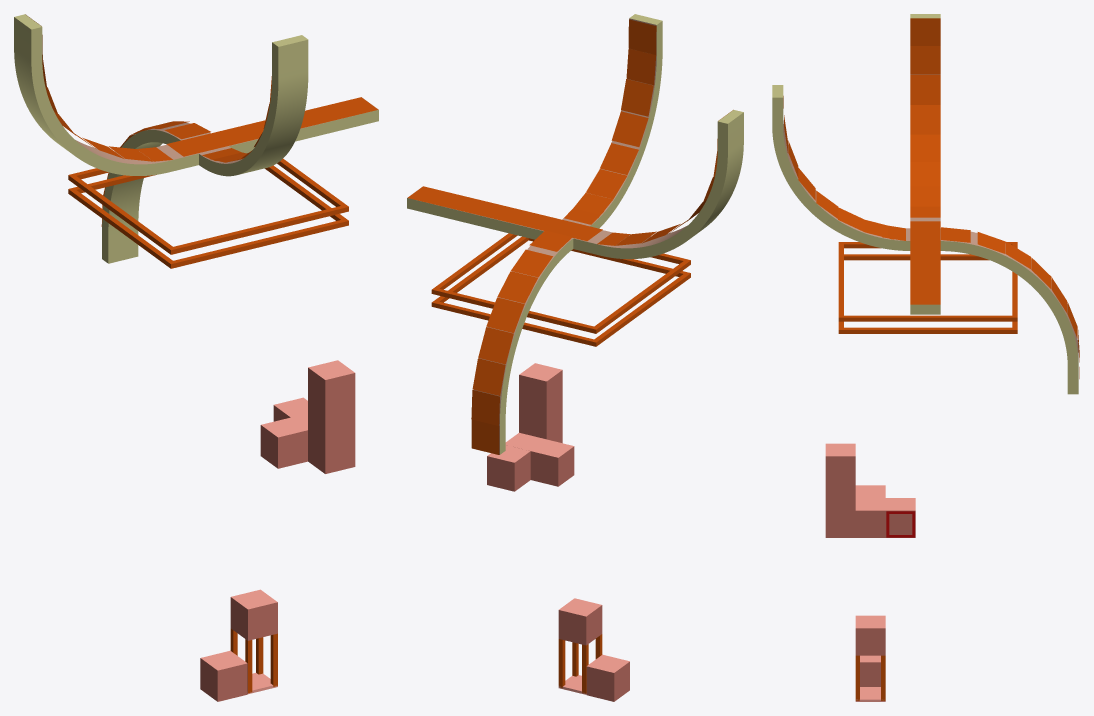
The model's file is Lrem Ipsum Jeblko.fbx.
3 views of the same model, side by side, from view 1: azimuth 30°, elevation 25°; view 2: azimuth 150°, elevation 25°; view 3: azimuth 270°, elevation 25° (orthographic). The views are drawn at different scales.
Parts seen in each view (by area): view 1: Cube, Rotate, Up_L, up_F, Výtah, down, Cube_3, Cube_2, Cube_1; view 2: Rotate, Cube, up_F, Výtah, Up_L, Cube_2, down, Cube_3, Cube_1, Plane_3, Plane_4, Plane_4_2 (+12 smaller); view 3: Cube, Rotate, Up_L, down, Výtah, Cube_1, Plane_10, Plane_11, Plane_12, Plane_9, Plane_13, Plane_8 (+3 smaller).
Boxes of the visible parts, box(x1,y1,x2,y2) form: Cube: box(260, 360, 355, 473); Rotate: box(68, 153, 348, 268); Up_L: box(199, 35, 308, 176); up_F: box(14, 14, 169, 175); Výtah: box(230, 589, 277, 693); down: box(102, 123, 210, 263); Cube_3: box(200, 650, 247, 701); Cube_2: box(156, 98, 378, 172); Cube_1: box(273, 397, 307, 421); Rotate: box(431, 233, 690, 346); Cube: box(505, 363, 574, 486); up_F: box(600, 110, 743, 259); Výtah: box(558, 598, 602, 693); Up_L: box(562, 14, 662, 228); Cube_2: box(407, 186, 612, 255); down: box(474, 238, 573, 454); Cube_3: box(586, 654, 629, 701); Cube_1: box(487, 445, 530, 491); Plane_3: box(478, 327, 513, 364); Plane_4: box(472, 358, 505, 395); Plane_4_2: box(621, 79, 653, 116); Cube: box(825, 443, 885, 537); Rotate: box(838, 242, 1017, 333); Up_L: box(772, 85, 910, 250); down: box(940, 228, 1078, 394); Výtah: box(855, 615, 885, 700); Cube_1: box(885, 498, 915, 537); Plane_10: box(910, 105, 940, 134); Plane_11: box(910, 75, 940, 104); Plane_12: box(910, 46, 940, 74); Plane_9: box(910, 134, 940, 161); Plane_13: box(910, 18, 940, 45); Plane_8: box(910, 162, 940, 186).
Size of the model in its own units: 11.6 by 21.92 by 10.23.
